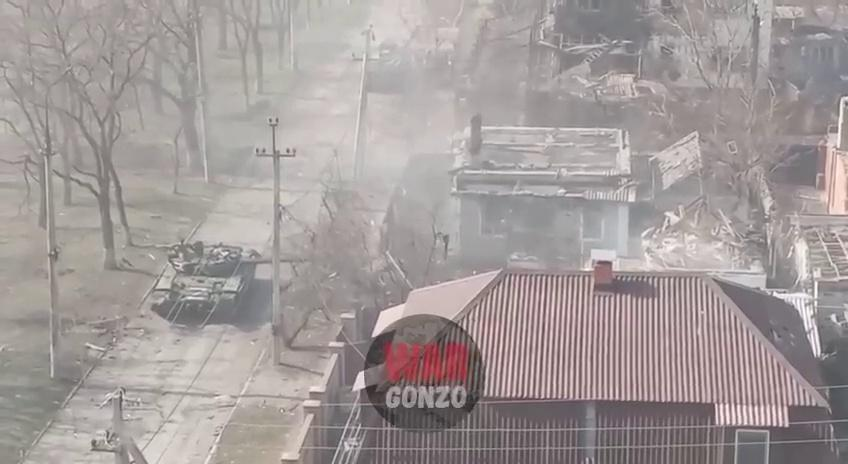tank: (149, 242, 312, 318)
